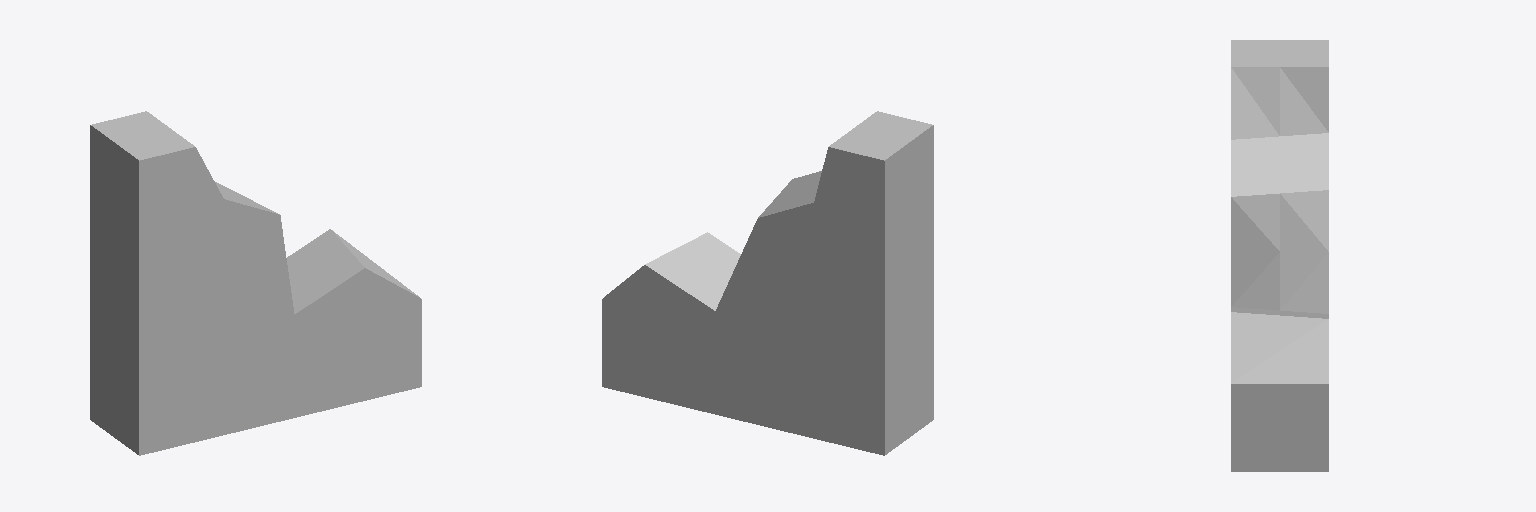
The model's file is struct_wall_cracked_2.obj.
3 views of the same model, side by side, from view 1: azimuth 30°, elevation 25°; view 2: azimuth 150°, elevation 25°; view 3: azimuth 270°, elevation 25° (orthographic).
Parts seen in each view (by area): view 1: struct_wall_cracked_2; view 2: struct_wall_cracked_2; view 3: struct_wall_cracked_2.
Boxes of the visible parts, <box> form: struct_wall_cracked_2: <box>90,111,421,455</box>; struct_wall_cracked_2: <box>602,111,933,455</box>; struct_wall_cracked_2: <box>1231,40,1328,471</box>.
Bounding box in the file's own units: 1 × 1 × 0.3.